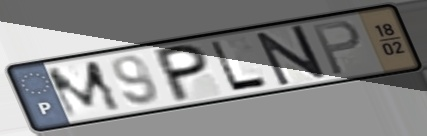9: (109, 54, 163, 108)
L: (206, 38, 274, 93)
M: (42, 58, 127, 122)
N: (252, 23, 330, 89)
P: (154, 41, 211, 105), (309, 18, 364, 78)
